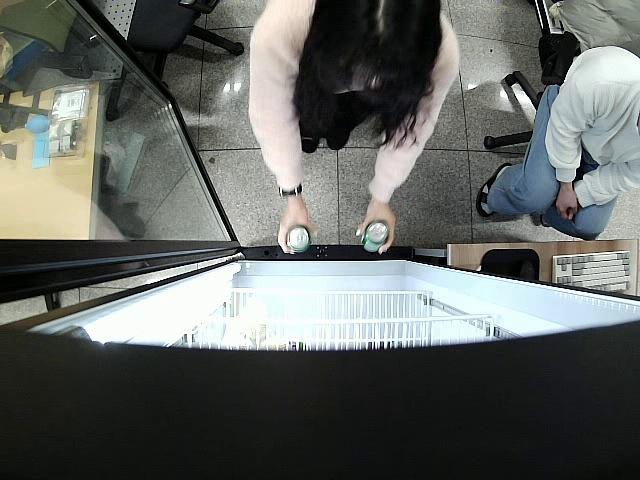12_chilsungCider: (361, 219, 389, 252), (286, 222, 312, 254)
